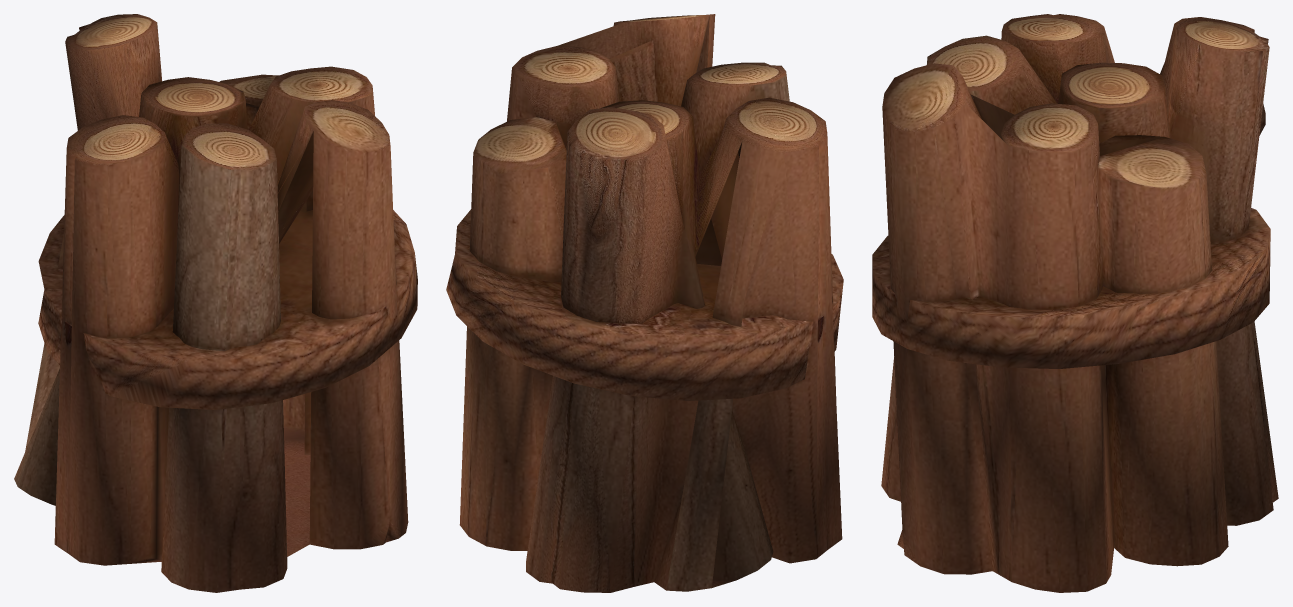
File: firewood_M.fbx
The picture shows the model from 3 angles, left to right: view 1: azimuth 30°, elevation 25°; view 2: azimuth 150°, elevation 25°; view 3: azimuth 270°, elevation 25°; orthographic projection. The views are drawn at different scales.
Parts seen in each view (by area): view 1: tripo_node_3eb67bc4; view 2: tripo_node_3eb67bc4; view 3: tripo_node_3eb67bc4.
Boxes of the visible parts, <box> form: tripo_node_3eb67bc4: <box>14,14,417,592</box>; tripo_node_3eb67bc4: <box>446,14,843,592</box>; tripo_node_3eb67bc4: <box>872,14,1278,592</box>.
Size of the model in its own units: 79.49 by 79.1 by 99.8.
1 material, 1 textured.
